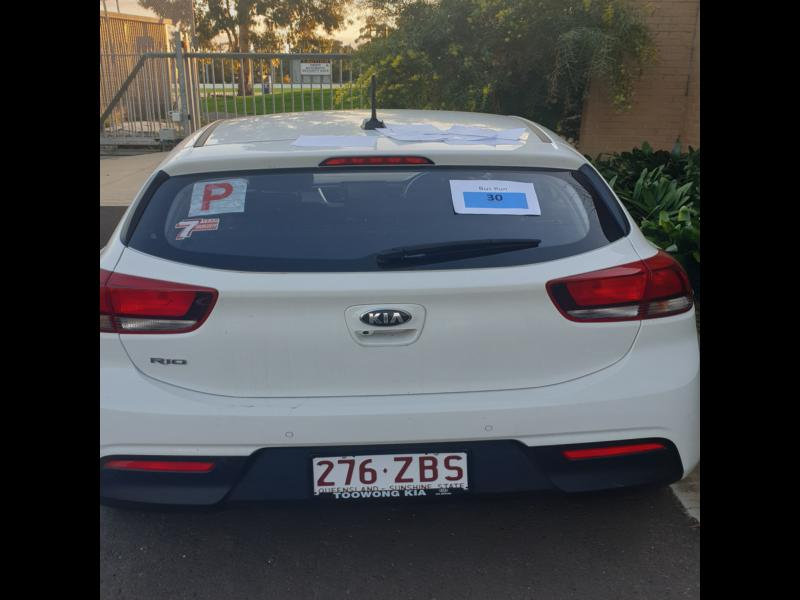BusRun: (463, 191, 531, 211)
PlateNo: (311, 450, 469, 492)
